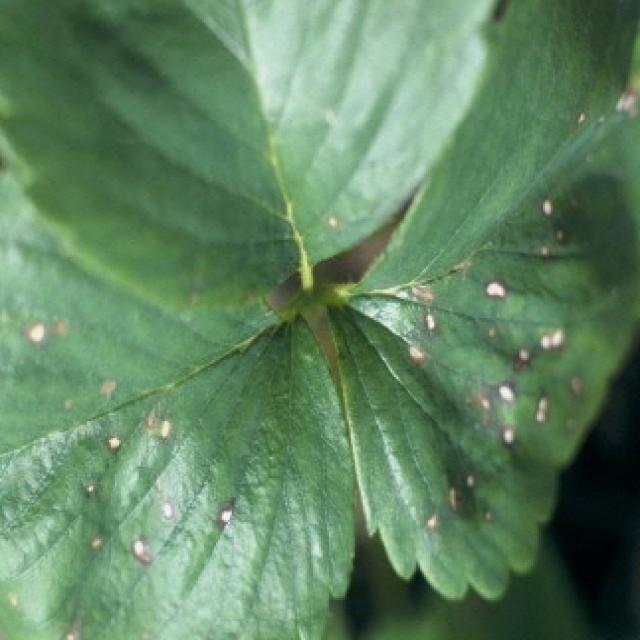Leaf Spot: (318, 0, 640, 602), (0, 162, 359, 640)
